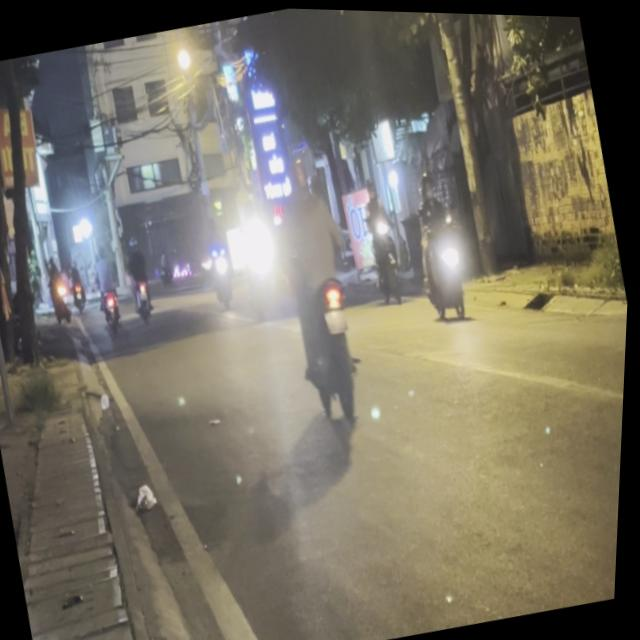helmet: (284, 148, 319, 197)
licenseplate: (251, 139, 391, 445), (398, 161, 485, 324)
nohelmet: (326, 304, 354, 332)
